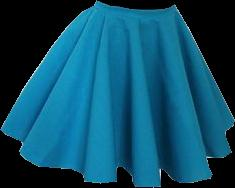Hemline: (0, 121, 234, 187)
Waistline: (92, 6, 178, 19), (96, 0, 175, 11)
